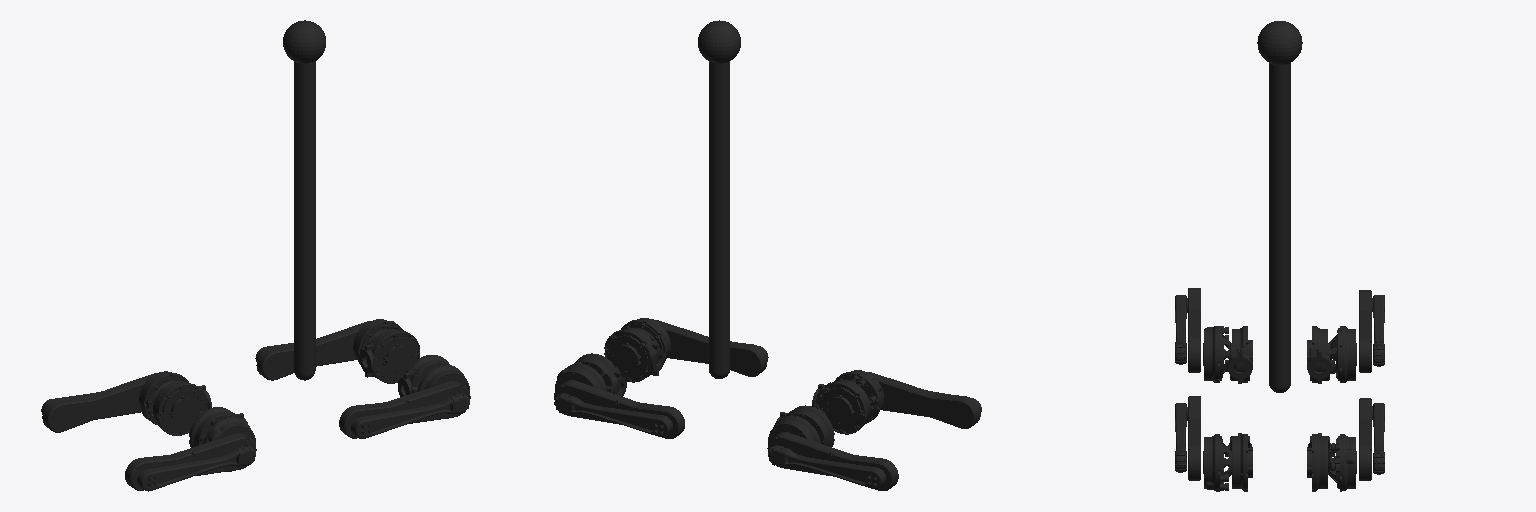
--- Facts derived from the render (not from the file) ---
3 views of the same robot in one strip: view 1: azimuth 30°, elevation 25°; view 2: azimuth 150°, elevation 25°; view 3: azimuth 270°, elevation 25° (orthographic).
Model spirit with 20 links and 19 joints (14 revolute, 5 fixed), rooted at body, posed every joint at zero.
Links seen in each view (by area): view 1: tail_link_1, hip1, hip0, upper1, upper0, upper3, upper2, lower2, lower3, hip2, hip3, tail_mass; view 2: tail_link_1, hip3, hip2, upper3, upper2, upper1, upper0, lower0, lower1, hip0, hip1, tail_mass; view 3: tail_link_1, hip2, hip3, hip0, hip1, tail_mass, upper3, upper2, upper0, upper1, lower0, lower1 (+2 smaller).
Link boxes in pixels (x1,y1,x2,y2): tail_link_1: (294,61,315,373); hip1: (139,371,211,435); hip0: (353,319,419,383); upper1: (42,373,156,432); upper0: (256,321,369,380); upper3: (125,433,256,490); upper2: (339,381,470,438); lower2: (351,393,469,438); lower3: (137,445,255,491); hip2: (398,355,469,418); hip3: (189,407,255,471); tail_mass: (283,20,325,63); tail_link_1: (709,61,729,372); hip3: (812,370,883,434); hip2: (604,318,670,382); upper3: (868,372,980,428); upper2: (652,319,767,376); upper1: (767,432,898,490); upper0: (554,380,684,438); lower0: (554,393,672,436); lower1: (768,445,885,488); hip0: (555,353,626,396); hip1: (768,405,834,446); tail_mass: (698,20,740,63); tail_link_1: (1269,63,1290,386); hip2: (1203,433,1252,491); hip3: (1203,326,1252,383); hip0: (1307,433,1356,491); hip1: (1307,326,1356,383); tail_mass: (1257,21,1302,64); upper3: (1188,288,1200,372); upper2: (1188,396,1200,480); upper0: (1359,398,1371,480); upper1: (1359,290,1371,372); lower0: (1372,403,1384,474); lower1: (1372,295,1384,366).
Bounding box of the posed robot: 0.7392 × 0.3719 × 0.8043 m (x, y, z).
12 mesh visuals loaded from 4 distinct referenced files (3 binary STL); not drawn: 1 (reference not matched to a file when rendering).

URDF robot description (spirit):
<?xml version="1.0" encoding="utf-8"?>
<!-- =================================================================================== -->
<!-- |    This document was autogenerated by xacro from spirit40_gaz.urdf.xacro        | -->
<!-- |    EDITING THIS FILE BY HAND IS NOT RECOMMENDED                                 | -->
<!-- =================================================================================== -->
<!--
 * Copyright (C) Ghost Robotics - All Rights Reserved
 * Unauthorized copying of this file, via any medium is strictly prohibited
 * Proprietary and confidential
 * Written by Avik De <[email redacted]> and Tom Jacobs <[email redacted]>
-->
<robot name="spirit">
  <!-- Define materials -->
  <material name="gray">
    <color rgba="0.2 0.2 0.2 1.0"/>
  </material>
  <material name="darkgray">
    <color rgba="0.1 0.1 0.1 1.0"/>
  </material>
  <material name="silver">
    <color rgba="0.3 0.3 0.3 1.0"/>
  </material>
  <material name="red">
    <color rgba="0.8 0.0 0.2 1.0"/>
  </material>
  <!-- Body -->
  <link name="body">
    <!--		<visual>-->
    <!--			<origin rpy="0 0 0" xyz="0 0 0"/>-->
    <!--			<geometry>-->
    <!--				<box size="${bodyLength} ${bodyWidth} ${bodyHeight}"/>-->
    <!--			</geometry>-->
    <!--			<material name="darkgray"/>-->
    <!--		</visual>-->
    <visual>
      <origin rpy="0 0 0" xyz="0.03 0 0"/>
      <geometry>
        <mesh filename="package://spirit_description/meshes/Spirit40_Body_Mesh_transformed.stl" scale="1 1 1"/>
      </geometry>
      <material name="gray"/>
    </visual>
    <inertial>
      <mass value="5.75"/>
      <!-- Uniform box -->
      <!-- <inertia ixx="1/12*${bodyMass}*(${bodyWidth}*${bodyWidth} + ${bodyHeight}*${bodyHeight})"  ixy="0"  ixz="0" iyy="1/12*${bodyMass}*(${bodyLength}*${bodyLength} + ${bodyHeight}*${bodyHeight})" iyz="0" izz="1/12*${bodyMass}*(${bodyLength}*${bodyLength} + ${bodyWidth}*${bodyWidth})"/> -->
      <inertia ixx="0.05" ixy="0" ixz="0" iyy="0.1" iyz="0" izz="0.1"/>
    </inertial>
    <!-- Just copy geometry for collision -->
    <collision>
      <origin rpy="0 0 0" xyz="0 0 0"/>
      <geometry>
        <box size="0.335 0.24 0.104"/>
      </geometry>
    </collision>
  </link>
  <gazebo reference="body">
    <gravity>true</gravity>
    <sensor name="imu_sensor" type="imu">
      <always_on>true</always_on>
      <visualize>true</visualize>
      <topic>__default_topic_</topic>
      <plugin filename="libgazebo_ros_imu_sensor.so" name="imu_plugin">
        <topicName>imu</topicName>
        <bodyName>body</bodyName>
        <updateRateHZ>500.0</updateRateHZ>
        <gaussianNoise>0.0</gaussianNoise>
        <xyzOffset>0 0 0</xyzOffset>
        <rpyOffset>0 0 0</rpyOffset>
        <frameName>body</frameName>
        <initialOrientationAsReference>true</initialOrientationAsReference>
      </plugin>
      <pose>0 0 0 0 0 0</pose>
    </sensor>
  </gazebo>
  <!-- Hip motor -->
  <link name="hip0">
    <!--			<visual>-->
    <!--				<origin rpy="${pi/2} 0 0" xyz="${front * 0} ${left * (dPodAxisToEdge)} 0"/>-->
    <!--				<geometry>-->
    <!--					<cylinder length="${podLength}" radius="${podRadius}"/>-->
    <!--				</geometry>-->
    <!--				<material name="${color}"/>-->
    <!--			</visual>-->
    <visual>
      <origin rpy="0 0 0" xyz="0 0.0 0"/>
      <geometry>
        <mesh filename="package://spirit_description/meshes/Spirit40_Hip_Module_transformed.stl" scale="1 1 1"/>
      </geometry>
      <material name="gray"/>
    </visual>
    <collision>
      <origin rpy="1.5707963268 0 0" xyz="0 0.028 0"/>
      <geometry>
        <cylinder length="0.08" radius="0.055"/>
      </geometry>
    </collision>
    <inertial>
      <mass value="0.575"/>
      <!-- <inertia ixx="1/12*${podMass}*${podLength}*${podLength} + 1/4*${podMass}*${podRadius}*${podRadius}"  ixy="0"  ixz="0" iyy="1/12*${podMass}*${podLength}*${podLength} + 1/4*${podMass}*${podRadius}*${podRadius}" iyz="0" izz="1/2*${podMass}*${podRadius}*$
				{podRadius}" /> -->
      <inertia ixx="0.00066963541" ixy="0" ixz="0" iyy="0.00066963541" iyz="0" izz="0.0008696875"/>
    </inertial>
  </link>
  <gazebo reference="hip0">
    <material>Gazebo/Gray</material>
  </gazebo>
  <!-- Abduction joint. Joint names are: 8 9 10 11 -->
  <joint name="8" type="revolute">
    <parent link="body"/>
    <child link="hip0"/>
    <axis xyz="1 0 0"/>
    <origin xyz="0.2263 0.07 0"/>
    <limit effort="40" lower="-0.707" upper="0.707" velocity="30"/>
    <dynamics damping="0.0" friction="0.0"/>
  </joint>
  <!-- Transmission elements required for Gazebo -->
  <transmission name="transmission_8">
    <type>transmission_interface/SimpleTransmission</type>
    <joint name="8">
      <hardwareInterface>hardware_interface/EffortJointInterface</hardwareInterface>
    </joint>
    <actuator name="motor_8">
      <hardwareInterface>EffortJointInterface</hardwareInterface>
      <mechanicalReduction>1</mechanicalReduction>
    </actuator>
  </transmission>
  <!-- Upper leg -->
  <link name="upper0">
    <!--			<visual>-->
    <!--				<origin rpy="0 0 0" xyz="-${upperLegLength/2} ${-left*upperLegWidth} 0"/>-->
    <!--				<geometry>-->
    <!--					<box size="${upperLegLength} ${upperLegWidth} ${upperLegHeight}"/>-->
    <!--				</geometry>-->
    <!--				<material name="silver"/>-->
    <!--			</visual>-->
    <visual>
      <origin rpy="0 0  0" xyz="0 -0.02 0"/>
      <geometry>
        <mesh filename="package://spirit_description/meshes/Spirit40_Upper_leg_transformed.stl" scale="1 1 1"/>
      </geometry>
      <material name="gray"/>
    </visual>
    <collision>
      <origin rpy="0 0 0" xyz="-0.103 -0.022 0"/>
      <geometry>
        <box size="0.206 0.022 0.055"/>
      </geometry>
    </collision>
    <inertial>
      <mass value="0.775"/>
      <inertia ixx="5e-05" ixy="0" ixz="0" iyy="0.001" iyz="0" izz="0.001"/>
    </inertial>
  </link>
  <gazebo reference="upper0">
    <material>Gazebo/Gray</material>
  </gazebo>
  <!-- Hip joint. (Motor to upper leg). Joint names are: 0 2 4 6 -->
  <joint name="0" type="revolute">
    <parent link="hip0"/>
    <child link="upper0"/>
    <axis xyz="0 -1 0"/>
    <origin xyz="0 0.10098 0"/>
    <!--  rpy="0 -0.3 0" -->
    <limit effort="40" lower="-6.28318530718" upper="6.28318530718" velocity="30"/>
    <dynamics damping="0.0" friction="0.0"/>
  </joint>
  <!-- Transmission elements required for Gazebo -->
  <transmission name="transmission_0">
    <type>transmission_interface/SimpleTransmission</type>
    <joint name="0">
      <hardwareInterface>hardware_interface/EffortJointInterface</hardwareInterface>
    </joint>
    <actuator name="motor_0">
      <hardwareInterface>EffortJointInterface</hardwareInterface>
      <mechanicalReduction>1</mechanicalReduction>
    </actuator>
  </transmission>
  <!-- Lower leg -->
  <link name="lower0">
    <!--			<visual>-->
    <!--				<origin rpy="0 ${pi/2} 0" xyz="${lowerLegLength/2} 0 0"/>-->
    <!--				<geometry>-->
    <!--					<cylinder length="${lowerLegLength}" radius="${lowerLegRadius}"/>-->
    <!--				</geometry>-->
    <!--				<material name="darkgray"/>-->
    <!--			</visual>-->
    <visual>
      <origin rpy="0 0  0" xyz="0 0 0"/>
      <geometry>
        <mesh filename="package://spirit_description/meshes/Spirit40_Lower_Leg_transformed.stl" scale="1 1 1"/>
      </geometry>
      <material name="gray"/>
    </visual>
    <collision>
      <origin rpy="0 1.5707963268 0" xyz="0.103 0 0"/>
      <geometry>
        <cylinder length="0.206" radius="0.013"/>
      </geometry>
    </collision>
    <inertial>
      <mass value="0.075"/>
      <inertia ixx="5e-06" ixy="0" ixz="0" iyy="0.0001" iyz="0" izz="0.0001"/>
    </inertial>
  </link>
  <gazebo reference="lower0">
    <material>Gazebo/Black</material>
  </gazebo>
  <!-- Knee joint. Joint names are: 1 3 5 7 -->
  <joint name="1" type="revolute">
    <parent link="upper0"/>
    <child link="lower0"/>
    <axis xyz="0 1 0"/>
    <origin xyz="-0.206 0 0"/>
    <!--rpy="0 0.5 0"-->
    <limit effort="40" lower="0" upper="3.14159265359" velocity="30"/>
    <dynamics damping="0.0" friction="0.0"/>
  </joint>
  <!-- Transmission elements required for Gazebo -->
  <transmission name="transmission_1">
    <type>transmission_interface/SimpleTransmission</type>
    <joint name="1">
      <hardwareInterface>hardware_interface/EffortJointInterface</hardwareInterface>
    </joint>
    <actuator name="motor_1">
      <hardwareInterface>EffortJointInterface</hardwareInterface>
      <mechanicalReduction>1</mechanicalReduction>
    </actuator>
  </transmission>
  <!-- Toe -->
  <link name="toe0">
    <contact>
      <friction_anchor/>
      <stiffness value="30000.0"/>
      <damping value="1000.0"/>
      <spinning_friction value="0.3"/>
      <lateral_friction value="50.0"/>
    </contact>
    <visual>
      <origin rpy="0 0 0" xyz="0 0 0"/>
      <geometry>
        <!--					<sphere radius="${toeRadius}"/>-->
        <sphere radius="0.001"/>
      </geometry>
      <material name="darkgray"/>
    </visual>
    <collision>
      <origin rpy="0 0 0" xyz="0 0 0"/>
      <geometry>
        <sphere radius="0.02"/>
      </geometry>
      <surface>
        <friction>
          <ode>
            <mu>100000</mu>
            <mu2>100000</mu2>
          </ode>
        </friction>
        <contact>
          <ode>
            <kp>30000.0</kp>
            <kd>1000.0</kd>
          </ode>
        </contact>
      </surface>
    </collision>
    <inertial>
      <mass value="0.015"/>
      <inertia ixx="0.000025" ixy="0" ixz="0" iyy="0.000025" iyz="0" izz="0.000025"/>
      <!-- <inertia ixx="2/5*${toeMass}*${toeRadius}*${toeRadius}"  ixy="0"  ixz="0" iyy="2/5*${toeMass}*${toeRadius}*${toeRadius}" iyz="0" izz="2/5*${toeMass}*${toeRadius}*${toeRadius}" /> -->
    </inertial>
  </link>
  <gazebo reference="toe0">
    <material>Gazebo/DarkGray</material>
    <collision>
      <surface>
        <bounce>
          <restitution_coefficient>0</restitution_coefficient>
          <threshold>1e+06</threshold>
        </bounce>
        <friction>
          <torsional>
            <coefficient>0.3</coefficient>
          </torsional>
          <ode>
            <mu>100.0</mu>
            <mu2>50.0</mu2>
          </ode>
          <bullet>
            <rolling_friction>0.3</rolling_friction>
            <friction2>50.0</friction2>
          </bullet>
        </friction>
        <contact>
          <bullet>
            <kp>30000.0</kp>
            <kd>1000.0</kd>
          </bullet>
          <ode>
            <kp>30000.0</kp>
            <kd>1000.0</kd>
          </ode>
        </contact>
      </surface>
    </collision>
  </gazebo>
  <joint name="jtoe0" type="fixed">
    <parent link="lower0"/>
    <child link="toe0"/>
    <origin xyz="0.206 0 -0.0"/>
    <dynamics damping="0.0" friction="0.0"/>
  </joint>
  <!-- Hip motor -->
  <link name="hip1">
    <!--			<visual>-->
    <!--				<origin rpy="${pi/2} 0 0" xyz="${front * 0} ${left * (dPodAxisToEdge)} 0"/>-->
    <!--				<geometry>-->
    <!--					<cylinder length="${podLength}" radius="${podRadius}"/>-->
    <!--				</geometry>-->
    <!--				<material name="${color}"/>-->
    <!--			</visual>-->
    <visual>
      <origin rpy="0 3.14159265359 0" xyz="0.0 0.0 0"/>
      <geometry>
        <mesh filename="package://spirit_description/meshes/Spirit40_Hip_Module_transformed.stl" scale="1 1 1"/>
      </geometry>
      <material name="gray"/>
    </visual>
    <collision>
      <origin rpy="1.5707963268 0 0" xyz="0 0.028 0"/>
      <geometry>
        <cylinder length="0.08" radius="0.055"/>
      </geometry>
    </collision>
    <inertial>
      <mass value="0.575"/>
      <!-- <inertia ixx="1/12*${podMass}*${podLength}*${podLength} + 1/4*${podMass}*${podRadius}*${podRadius}"  ixy="0"  ixz="0" iyy="1/12*${podMass}*${podLength}*${podLength} + 1/4*${podMass}*${podRadius}*${podRadius}" iyz="0" izz="1/2*${podMass}*${podRadius}*$
				{podRadius}" /> -->
      <inertia ixx="0.00066963541" ixy="0" ixz="0" iyy="0.00066963541" iyz="0" izz="0.0008696875"/>
    </inertial>
  </link>
  <gazebo reference="hip1">
    <material>Gazebo/Gray</material>
  </gazebo>
  <!-- Abduction joint. Joint names are: 8 9 10 11 -->
  <joint name="9" type="revolute">
    <parent link="body"/>
    <child link="hip1"/>
    <axis xyz="1 0 0"/>
    <origin xyz="-0.2263 0.07 0"/>
    <limit effort="40" lower="-0.707" upper="0.707" velocity="30"/>
    <dynamics damping="0.0" friction="0.0"/>
  </joint>
  <!-- Transmission elements required for Gazebo -->
  <transmission name="transmission_9">
    <type>transmission_interface/SimpleTransmission</type>
    <joint name="9">
      <hardwareInterface>hardware_interface/EffortJointInterface</hardwareInterface>
    </joint>
    <actuator name="motor_9">
      <hardwareInterface>EffortJointInterface</hardwareInterface>
      <mechanicalReduction>1</mechanicalReduction>
    </actuator>
  </transmission>
  <!-- Upper leg -->
  <link name="upper1">
    <!--			<visual>-->
    <!--				<origin rpy="0 0 0" xyz="-${upperLegLength/2} ${-left*upperLegWidth} 0"/>-->
    <!--				<geometry>-->
    <!--					<box size="${upperLegLength} ${upperLegWidth} ${upperLegHeight}"/>-->
    <!--				</geometry>-->
    <!--				<material name="silver"/>-->
    <!--			</visual>-->
    <visual>
      <origin rpy="0 0  0" xyz="0 -0.02 0"/>
      <geometry>
        <mesh filename="package://spirit_description/meshes/Spirit40_Upper_leg_transformed.stl" scale="1 1 1"/>
      </geometry>
      <material name="gray"/>
    </visual>
    <collision>
      <origin rpy="0 0 0" xyz="-0.103 -0.022 0"/>
      <geometry>
        <box size="0.206 0.022 0.055"/>
      </geometry>
    </collision>
    <inertial>
      <mass value="0.775"/>
      <inertia ixx="5e-05" ixy="0" ixz="0" iyy="0.001" iyz="0" izz="0.001"/>
    </inertial>
  </link>
  <gazebo reference="upper1">
    <material>Gazebo/Gray</material>
  </gazebo>
  <!-- Hip joint. (Motor to upper leg). Joint names are: 0 2 4 6 -->
  <joint name="2" type="revolute">
    <parent link="hip1"/>
    <child link="upper1"/>
    <axis xyz="0 -1 0"/>
    <origin xyz="0 0.10098 0"/>
    <!--  rpy="0 -0.3 0" -->
    <limit effort="40" lower="-6.28318530718" upper="6.28318530718" velocity="30"/>
    <dynamics damping="0.0" friction="0.0"/>
  </joint>
  <!-- Transmission elements required for Gazebo -->
  <transmission name="transmission_2">
    <type>transmission_interface/SimpleTransmission</type>
    <joint name="2">
      <hardwareInterface>hardware_interface/EffortJointInterface</hardwareInterface>
    </joint>
    <actuator name="motor_2">
      <hardwareInterface>EffortJointInterface</hardwareInterface>
      <mechanicalReduction>1</mechanicalReduction>
    </actuator>
  </transmission>
  <!-- Lower leg -->
  <link name="lower1">
    <!--			<visual>-->
    <!--				<origin rpy="0 ${pi/2} 0" xyz="${lowerLegLength/2} 0 0"/>-->
    <!--				<geometry>-->
    <!--					<cylinder length="${lowerLegLength}" radius="${lowerLegRadius}"/>-->
    <!--				</geometry>-->
    <!--				<material name="darkgray"/>-->
    <!--			</visual>-->
    <visual>
      <origin rpy="0 0  0" xyz="0 0 0"/>
      <geometry>
        <mesh filename="package://spirit_description/meshes/Spirit40_Lower_Leg_transformed.stl" scale="1 1 1"/>
      </geometry>
      <material name="gray"/>
    </visual>
    <collision>
      <origin rpy="0 1.5707963268 0" xyz="0.103 0 0"/>
      <geometry>
        <cylinder length="0.206" radius="0.013"/>
      </geometry>
    </collision>
    <inertial>
      <mass value="0.075"/>
      <inertia ixx="5e-06" ixy="0" ixz="0" iyy="0.0001" iyz="0" izz="0.0001"/>
    </inertial>
  </link>
  <gazebo reference="lower1">
    <material>Gazebo/Black</material>
  </gazebo>
  <!-- Knee joint. Joint names are: 1 3 5 7 -->
  <joint name="3" type="revolute">
    <parent link="upper1"/>
    <child link="lower1"/>
    <axis xyz="0 1 0"/>
    <origin xyz="-0.206 0 0"/>
    <!--rpy="0 0.5 0"-->
    <limit effort="40" lower="0" upper="3.14159265359" velocity="30"/>
    <dynamics damping="0.0" friction="0.0"/>
  </joint>
  <!-- Transmission elements required for Gazebo -->
  <transmission name="transmission_3">
    <type>transmission_interface/SimpleTransmission</type>
    <joint name="3">
      <hardwareInterface>hardware_interface/EffortJointInterface</hardwareInterface>
    </joint>
    <actuator name="motor_3">
      <hardwareInterface>EffortJointInterface</hardwareInterface>
      <mechanicalReduction>1</mechanicalReduction>
    </actuator>
  </transmission>
  <!-- Toe -->
  <link name="toe1">
    <contact>
      <friction_anchor/>
      <stiffness value="30000.0"/>
      <damping value="1000.0"/>
      <spinning_friction value="0.3"/>
      <lateral_friction value="50.0"/>
    </contact>
    <visual>
      <origin rpy="0 0 0" xyz="0 0 0"/>
      <geometry>
        <!--					<sphere radius="${toeRadius}"/>-->
        <sphere radius="0.001"/>
      </geometry>
      <material name="darkgray"/>
    </visual>
    <collision>
      <origin rpy="0 0 0" xyz="0 0 0"/>
      <geometry>
        <sphere radius="0.02"/>
      </geometry>
      <surface>
        <friction>
          <ode>
            <mu>100000</mu>
            <mu2>100000</mu2>
          </ode>
        </friction>
        <contact>
          <ode>
            <kp>30000.0</kp>
            <kd>1000.0</kd>
          </ode>
        </contact>
      </surface>
    </collision>
    <inertial>
      <mass value="0.015"/>
      <inertia ixx="0.000025" ixy="0" ixz="0" iyy="0.000025" iyz="0" izz="0.000025"/>
      <!-- <inertia ixx="2/5*${toeMass}*${toeRadius}*${toeRadius}"  ixy="0"  ixz="0" iyy="2/5*${toeMass}*${toeRadius}*${toeRadius}" iyz="0" izz="2/5*${toeMass}*${toeRadius}*${toeRadius}" /> -->
    </inertial>
  </link>
  <gazebo reference="toe1">
    <material>Gazebo/DarkGray</material>
    <collision>
      <surface>
        <bounce>
          <restitution_coefficient>0</restitution_coefficient>
          <threshold>1e+06</threshold>
        </bounce>
        <friction>
          <torsional>
            <coefficient>0.3</coefficient>
          </torsional>
          <ode>
            <mu>100.0</mu>
            <mu2>50.0</mu2>
          </ode>
          <bullet>
            <rolling_friction>0.3</rolling_friction>
            <friction2>50.0</friction2>
          </bullet>
        </friction>
        <contact>
          <bullet>
            <kp>30000.0</kp>
            <kd>1000.0</kd>
          </bullet>
          <ode>
            <kp>30000.0</kp>
            <kd>1000.0</kd>
          </ode>
        </contact>
      </surface>
    </collision>
  </gazebo>
  <joint name="jtoe1" type="fixed">
    <parent link="lower1"/>
    <child link="toe1"/>
    <origin xyz="0.206 0 -0.0"/>
    <dynamics damping="0.0" friction="0.0"/>
  </joint>
  <!-- Hip motor -->
  <link name="hip2">
    <!--			<visual>-->
    <!--				<origin rpy="${pi/2} 0 0" xyz="${front * 0} ${left * (dPodAxisToEdge)} 0"/>-->
    <!--				<geometry>-->
    <!--					<cylinder length="${podLength}" radius="${podRadius}"/>-->
    <!--				</geometry>-->
    <!--				<material name="${color}"/>-->
    <!--			</visual>-->
    <visual>
      <origin rpy="3.14159265359 0 0" xyz="0.0 0 0.0"/>
      <geometry>
        <mesh filename="package://spirit_description/meshes/Spirit40_Hip_Module_transformed.stl" scale="1 1 1"/>
      </geometry>
      <material name="gray"/>
    </visual>
    <collision>
      <origin rpy="1.5707963268 0 0" xyz="0 -0.028 0"/>
      <geometry>
        <cylinder length="0.08" radius="0.055"/>
      </geometry>
    </collision>
    <inertial>
      <mass value="0.575"/>
      <!-- <inertia ixx="1/12*${podMass}*${podLength}*${podLength} + 1/4*${podMass}*${podRadius}*${podRadius}"  ixy="0"  ixz="0" iyy="1/12*${podMass}*${podLength}*${podLength} + 1/4*${podMass}*${podRadius}*${podRadius}" iyz="0" izz="1/2*${podMass}*${podRadius}*$
				{podRadius}" /> -->
      <inertia ixx="0.00066963541" ixy="0" ixz="0" iyy="0.00066963541" iyz="0" izz="0.0008696875"/>
    </inertial>
  </link>
  <gazebo reference="hip2">
    <material>Gazebo/Gray</material>
  </gazebo>
  <!-- Abduction joint. Joint names are: 8 9 10 11 -->
  <joint name="10" type="revolute">
    <parent link="body"/>
    <child link="hip2"/>
    <axis xyz="1 0 0"/>
    <origin xyz="0.2263 -0.07 0"/>
    <limit effort="40" lower="-0.707" upper="0.707" velocity="30"/>
    <dynamics damping="0.0" friction="0.0"/>
  </joint>
  <!-- Transmission elements required for Gazebo -->
  <transmission name="transmission_10">
    <type>transmission_interface/SimpleTransmission</type>
    <joint name="10">
      <hardwareInterface>hardware_interface/EffortJointInterface</hardwareInterface>
    </joint>
    <actuator name="motor_10">
      <hardwareInterface>EffortJointInterface</hardwareInterface>
      <mechanicalReduction>1</mechanicalReduction>
    </actuator>
  </transmission>
  <!-- Upper leg -->
  <link name="upper2">
    <!--			<visual>-->
    <!--				<origin rpy="0 0 0" xyz="-${upperLegLength/2} ${-left*upperLegWidth} 0"/>-->
    <!--				<geometry>-->
    <!--					<box size="${upperLegLength} ${upperLegWidth} ${upperLegHeight}"/>-->
    <!--				</geometry>-->
    <!--				<material name="silver"/>-->
    <!--			</visual>-->
    <visual>
      <origin rpy="3.14159265359 0  0" xyz="0 0.02 0"/>
      <geometry>
        <mesh filename="package://spirit_description/meshes/Spirit40_Upper_leg_transformed.stl" scale="1 1 1"/>
      </geometry>
      <material name="gray"/>
    </visual>
    <collision>
      <origin rpy="0 0 0" xyz="-0.103 0.022 0"/>
      <geometry>
        <box size="0.206 0.022 0.055"/>
      </geometry>
    </collision>
    <inertial>
      <mass value="0.775"/>
      <inertia ixx="5e-05" ixy="0" ixz="0" iyy="0.001" iyz="0" izz="0.001"/>
    </inertial>
  </link>
  <gazebo reference="upper2">
    <material>Gazebo/Gray</material>
  </gazebo>
  <!-- Hip joint. (Motor to upper leg). Joint names are: 0 2 4 6 -->
  <joint name="4" type="revolute">
    <parent link="hip2"/>
    <child link="upper2"/>
    <axis xyz="0 -1 0"/>
    <origin xyz="0 -0.10098 0"/>
    <!--  rpy="0 -0.3 0" -->
    <limit effort="40" lower="-6.28318530718" upper="6.28318530718" velocity="30"/>
    <dynamics damping="0.0" friction="0.0"/>
  </joint>
  <!-- Transmission elements required for Gazebo -->
  <transmission name="transmission_4">
    <type>transmission_interface/SimpleTransmission</type>
    <joint name="4">
      <hardwareInterface>hardware_interface/EffortJointInterface</hardwareInterface>
    </joint>
    <actuator name="motor_4">
      <hardwareInterface>EffortJointInterface</hardwareInterface>
      <mechanicalReduction>1</mechanicalReduction>
    </actuator>
  </transmission>
  <!-- Lower leg -->
  <link name="lower2">
    <!--			<visual>-->
    <!--				<origin rpy="0 ${pi/2} 0" xyz="${lowerLegLength/2} 0 0"/>-->
    <!--				<geometry>-->
    <!--					<cylinder length="${lowerLegLength}" radius="${lowerLegRadius}"/>-->
    <!--				</geometry>-->
    <!--				<material name="darkgray"/>-->
    <!--			</visual>-->
    <visual>
      <origin rpy="3.14159265359 0  0" xyz="0 0 0"/>
      <geometry>
        <mesh filename="package://spirit_description/meshes/Spirit40_Lower_Leg_transformed.stl" scale="1 1 1"/>
      </geometry>
      <material name="gray"/>
    </visual>
    <collision>
      <origin rpy="0 1.5707963268 0" xyz="0.103 0 0"/>
      <geometry>
        <cylinder length="0.206" radius="0.013"/>
      </geometry>
    </collision>
    <inertial>
      <mass value="0.075"/>
      <inertia ixx="5e-06" ixy="0" ixz="0" iyy="0.0001" iyz="0" izz="0.0001"/>
    </inertial>
  </link>
  <gazebo reference="lower2">
    <material>Gazebo/Black</material>
  </gazebo>
  <!-- Knee joint. Joint names are: 1 3 5 7 -->
  <joint name="5" type="revolute">
    <parent link="upper2"/>
    <child link="lower2"/>
    <axis xyz="0 1 0"/>
    <origin xyz="-0.206 0 0"/>
    <!--rpy="0 0.5 0"-->
    <limit effort="40" lower="0" upper="3.14159265359" velocity="30"/>
    <dynamics damping="0.0" friction="0.0"/>
  </joint>
  <!-- Transmission elements required for Gazebo -->
  <transmission name="transmission_5">
    <type>transmission_interface/SimpleTransmission</type>
    <joint name="5">
      <hardwareInterface>hardware_interface/EffortJointInterface</hardwareInterface>
    </joint>
    <actuator name="motor_5">
      <hardwareInterface>EffortJointInterface</hardwareInterface>
      <mechanicalReduction>1</mechanicalReduction>
    </actuator>
  </transmission>
  <!-- Toe -->
  <link name="toe2">
    <contact>
      <friction_anchor/>
      <stiffness value="30000.0"/>
      <damping value="1000.0"/>
      <spinning_friction value="0.3"/>
      <lateral_friction value="50.0"/>
    </contact>
    <visual>
      <origin rpy="0 0 0" xyz="0 0 0"/>
      <geometry>
        <!--					<sphere radius="${toeRadius}"/>-->
        <sphere radius="0.001"/>
      </geometry>
      <material name="darkgray"/>
    </visual>
    <collision>
      <origin rpy="0 0 0" xyz="0 0 0"/>
      <geometry>
        <sphere radius="0.02"/>
      </geometry>
      <surface>
        <friction>
          <ode>
            <mu>100000</mu>
            <mu2>100000</mu2>
          </ode>
        </friction>
        <contact>
          <ode>
            <kp>30000.0</kp>
            <kd>1000.0</kd>
          </ode>
        </contact>
      </surface>
    </collision>
    <inertial>
      <mass value="0.015"/>
      <inertia ixx="0.000025" ixy="0" ixz="0" iyy="0.000025" iyz="0" izz="0.000025"/>
      <!-- <inertia ixx="2/5*${toeMass}*${toeRadius}*${toeRadius}"  ixy="0"  ixz="0" iyy="2/5*${toeMass}*${toeRadius}*${toeRadius}" iyz="0" izz="2/5*${toeMass}*${toeRadius}*${toeRadius}" /> -->
    </inertial>
  </link>
  <gazebo reference="toe2">
    <material>Gazebo/DarkGray</material>
    <collision>
      <surface>
        <bounce>
          <restitution_coefficient>0</restitution_coefficient>
          <threshold>1e+06</threshold>
        </bounce>
        <friction>
          <torsional>
            <coefficient>0.3</coefficient>
          </torsional>
          <ode>
            <mu>100.0</mu>
            <mu2>50.0</mu2>
          </ode>
          <bullet>
            <rolling_friction>0.3</rolling_friction>
            <friction2>50.0</friction2>
          </bullet>
        </friction>
        <contact>
          <bullet>
            <kp>30000.0</kp>
            <kd>1000.0</kd>
          </bullet>
          <ode>
            <kp>30000.0</kp>
            <kd>1000.0</kd>
          </ode>
        </contact>
      </surface>
    </collision>
  </gazebo>
  <joint name="jtoe2" type="fixed">
    <parent link="lower2"/>
    <child link="toe2"/>
    <origin xyz="0.206 0 -0.0"/>
    <dynamics damping="0.0" friction="0.0"/>
  </joint>
  <!-- Hip motor -->
  <link name="hip3">
    <!--			<visual>-->
    <!--				<origin rpy="${pi/2} 0 0" xyz="${front * 0} ${left * (dPodAxisToEdge)} 0"/>-->
    <!--				<geometry>-->
    <!--					<cylinder length="${podLength}" radius="${podRadius}"/>-->
    <!--				</geometry>-->
    <!--				<material name="${color}"/>-->
    <!--			</visual>-->
    <visual>
      <origin rpy="3.14159265359 3.14159265359 0" xyz="0.0 0.0 0.0"/>
      <geometry>
        <mesh filename="package://spirit_description/meshes/Spirit40_Hip_Module_transformed.stl" scale="1 1 1"/>
      </geometry>
      <material name="gray"/>
    </visual>
    <collision>
      <origin rpy="1.5707963268 0 0" xyz="0 -0.028 0"/>
      <geometry>
        <cylinder length="0.08" radius="0.055"/>
      </geometry>
    </collision>
    <inertial>
      <mass value="0.575"/>
      <!-- <inertia ixx="1/12*${podMass}*${podLength}*${podLength} + 1/4*${podMass}*${podRadius}*${podRadius}"  ixy="0"  ixz="0" iyy="1/12*${podMass}*${podLength}*${podLength} + 1/4*${podMass}*${podRadius}*${podRadius}" iyz="0" izz="1/2*${podMass}*${podRadius}*$
				{podRadius}" /> -->
      <inertia ixx="0.00066963541" ixy="0" ixz="0" iyy="0.00066963541" iyz="0" izz="0.0008696875"/>
    </inertial>
  </link>
  <gazebo reference="hip3">
    <material>Gazebo/Gray</material>
  </gazebo>
  <!-- Abduction joint. Joint names are: 8 9 10 11 -->
  <joint name="11" type="revolute">
    <parent link="body"/>
    <child link="hip3"/>
    <axis xyz="1 0 0"/>
    <origin xyz="-0.2263 -0.07 0"/>
    <limit effort="40" lower="-0.707" upper="0.707" velocity="30"/>
    <dynamics damping="0.0" friction="0.0"/>
  </joint>
  <!-- Transmission elements required for Gazebo -->
  <transmission name="transmission_11">
    <type>transmission_interface/SimpleTransmission</type>
    <joint name="11">
      <hardwareInterface>hardware_interface/EffortJointInterface</hardwareInterface>
    </joint>
    <actuator name="motor_11">
      <hardwareInterface>EffortJointInterface</hardwareInterface>
      <mechanicalReduction>1</mechanicalReduction>
    </actuator>
  </transmission>
  <!-- Upper leg -->
  <link name="upper3">
    <!--			<visual>-->
    <!--				<origin rpy="0 0 0" xyz="-${upperLegLength/2} ${-left*upperLegWidth} 0"/>-->
    <!--				<geometry>-->
    <!--					<box size="${upperLegLength} ${upperLegWidth} ${upperLegHeight}"/>-->
    <!--				</geometry>-->
    <!--				<material name="silver"/>-->
    <!--			</visual>-->
    <visual>
      <origin rpy="3.14159265359 0  0" xyz="0 0.02 0"/>
      <geometry>
        <mesh filename="package://spirit_description/meshes/Spirit40_Upper_leg_transformed.stl" scale="1 1 1"/>
      </geometry>
      <material name="gray"/>
    </visual>
    <collision>
      <origin rpy="0 0 0" xyz="-0.103 0.022 0"/>
      <geometry>
        <box size="0.206 0.022 0.055"/>
      </geometry>
    </collision>
    <inertial>
      <mass value="0.775"/>
      <inertia ixx="5e-05" ixy="0" ixz="0" iyy="0.001" iyz="0" izz="0.001"/>
    </inertial>
  </link>
  <gazebo reference="upper3">
    <material>Gazebo/Gray</material>
  </gazebo>
  <!-- Hip joint. (Motor to upper leg). Joint names are: 0 2 4 6 -->
  <joint name="6" type="revolute">
    <parent link="hip3"/>
    <child link="upper3"/>
    <axis xyz="0 -1 0"/>
    <origin xyz="0 -0.10098 0"/>
    <!--  rpy="0 -0.3 0" -->
    <limit effort="40" lower="-6.28318530718" upper="6.28318530718" velocity="30"/>
    <dynamics damping="0.0" friction="0.0"/>
  </joint>
  <!-- Transmission elements required for Gazebo -->
  <transmission name="transmission_6">
    <type>transmission_interface/SimpleTransmission</type>
    <joint name="6">
      <hardwareInterface>hardware_interface/EffortJointInterface</hardwareInterface>
    </joint>
    <actuator name="motor_6">
      <hardwareInterface>EffortJointInterface</hardwareInterface>
      <mechanicalReduction>1</mechanicalReduction>
    </actuator>
  </transmission>
  <!-- Lower leg -->
  <link name="lower3">
    <!--			<visual>-->
    <!--				<origin rpy="0 ${pi/2} 0" xyz="${lowerLegLength/2} 0 0"/>-->
    <!--				<geometry>-->
    <!--					<cylinder length="${lowerLegLength}" radius="${lowerLegRadius}"/>-->
    <!--				</geometry>-->
    <!--				<material name="darkgray"/>-->
    <!--			</visual>-->
    <visual>
      <origin rpy="3.14159265359 0  0" xyz="0 0 0"/>
      <geometry>
        <mesh filename="package://spirit_description/meshes/Spirit40_Lower_Leg_transformed.stl" scale="1 1 1"/>
      </geometry>
      <material name="gray"/>
    </visual>
    <collision>
      <origin rpy="0 1.5707963268 0" xyz="0.103 0 0"/>
      <geometry>
        <cylinder length="0.206" radius="0.013"/>
      </geometry>
    </collision>
    <inertial>
      <mass value="0.075"/>
      <inertia ixx="5e-06" ixy="0" ixz="0" iyy="0.0001" iyz="0" izz="0.0001"/>
    </inertial>
  </link>
  <gazebo reference="lower3">
    <material>Gazebo/Black</material>
  </gazebo>
  <!-- Knee joint. Joint names are: 1 3 5 7 -->
  <joint name="7" type="revolute">
    <parent link="upper3"/>
    <child link="lower3"/>
    <axis xyz="0 1 0"/>
    <origin xyz="-0.206 0 0"/>
    <!--rpy="0 0.5 0"-->
    <limit effort="40" lower="0" upper="3.14159265359" velocity="30"/>
    <dynamics damping="0.0" friction="0.0"/>
  </joint>
  <!-- Transmission elements required for Gazebo -->
  <transmission name="transmission_7">
    <type>transmission_interface/SimpleTransmission</type>
    <joint name="7">
      <hardwareInterface>hardware_interface/EffortJointInterface</hardwareInterface>
    </joint>
    <actuator name="motor_7">
      <hardwareInterface>EffortJointInterface</hardwareInterface>
      <mechanicalReduction>1</mechanicalReduction>
    </actuator>
  </transmission>
  <!-- Toe -->
  <link name="toe3">
    <contact>
      <friction_anchor/>
      <stiffness value="30000.0"/>
      <damping value="1000.0"/>
      <spinning_friction value="0.3"/>
      <lateral_friction value="50.0"/>
    </contact>
    <visual>
      <origin rpy="0 0 0" xyz="0 0 0"/>
      <geometry>
        <!--					<sphere radius="${toeRadius}"/>-->
        <sphere radius="0.001"/>
      </geometry>
      <material name="darkgray"/>
    </visual>
    <collision>
      <origin rpy="0 0 0" xyz="0 0 0"/>
      <geometry>
        <sphere radius="0.02"/>
      </geometry>
      <surface>
        <friction>
          <ode>
            <mu>100000</mu>
            <mu2>100000</mu2>
          </ode>
        </friction>
        <contact>
          <ode>
            <kp>30000.0</kp>
            <kd>1000.0</kd>
          </ode>
        </contact>
      </surface>
    </collision>
    <inertial>
      <mass value="0.015"/>
      <inertia ixx="0.000025" ixy="0" ixz="0" iyy="0.000025" iyz="0" izz="0.000025"/>
      <!-- <inertia ixx="2/5*${toeMass}*${toeRadius}*${toeRadius}"  ixy="0"  ixz="0" iyy="2/5*${toeMass}*${toeRadius}*${toeRadius}" iyz="0" izz="2/5*${toeMass}*${toeRadius}*${toeRadius}" /> -->
    </inertial>
  </link>
  <gazebo reference="toe3">
    <material>Gazebo/DarkGray</material>
    <collision>
      <surface>
        <bounce>
          <restitution_coefficient>0</restitution_coefficient>
          <threshold>1e+06</threshold>
        </bounce>
        <friction>
          <torsional>
            <coefficient>0.3</coefficient>
          </torsional>
          <ode>
            <mu>100.0</mu>
            <mu2>50.0</mu2>
          </ode>
          <bullet>
            <rolling_friction>0.3</rolling_friction>
            <friction2>50.0</friction2>
          </bullet>
        </friction>
        <contact>
          <bullet>
            <kp>30000.0</kp>
            <kd>1000.0</kd>
          </bullet>
          <ode>
            <kp>30000.0</kp>
            <kd>1000.0</kd>
          </ode>
        </contact>
      </surface>
    </collision>
  </gazebo>
  <joint name="jtoe3" type="fixed">
    <parent link="lower3"/>
    <child link="toe3"/>
    <origin xyz="0.206 0 -0.0"/>
    <dynamics damping="0.0" friction="0.0"/>
  </joint>

  <!-- Tail link -->
  <link name="tail_link_0">
    <visual>
      <origin rpy="0 0 0" xyz="0 0 0"/>
      <geometry>
        <sphere radius="0.02"/>
      </geometry>
      <material name="gray"/>
    </visual>
    <inertial>
      <mass value="1e-03"/>
      <inertia ixx="1e-04" ixy="0" ixz="0" iyy="1e-04" iyz="0" izz="1e-04"/>
    </inertial>
  </link>
  <gazebo reference="tail_link_0">
    <material>Gazebo/Gray</material>
  </gazebo>
  <link name="tail_link_1">
    <visual>
      <origin rpy="0 0 0" xyz="0 0 0.33065"/>
      <geometry>
        <cylinder length="0.6613" radius="0.02"/>
      </geometry>
      <material name="gray"/>
    </visual>
    <inertial>
      <mass value="1e-03"/>
      <inertia ixx="1e-04" ixy="0" ixz="0" iyy="1e-04" iyz="0" izz="1e-04"/>
    </inertial>
  </link>
  <gazebo reference="tail_link_1">
    <material>Gazebo/Gray</material>
  </gazebo>
  <link name="tail_mass">
    <visual>
      <origin rpy="0 0 0" xyz="0 0 0"/>
      <geometry>
        <sphere radius="0.04"/>
      </geometry>
      <material name="gray"/>
    </visual>
    <inertial>
      <mass value="0.2764"/>
      <inertia ixx="2.764e-04" ixy="0" ixz="0" iyy="2.764e-04" iyz="0" izz="2.764e-04"/>
    </inertial>
  </link>
  <gazebo reference="tail_mass">
    <material>Gazebo/Gray</material>
  </gazebo>

  <!-- Tail joint -->
  <joint name="body_tail_joint_0" type="revolute">
    <parent link="body"/>
    <child link="tail_link_0"/>
    <axis xyz="1 0 0"/>
    <origin xyz="0 0 0.052"/>
    <limit effort="10" lower="-1.57" upper="1.57" velocity="30"/>
    <dynamics damping="0.0" friction="0.0"/>
  </joint>
  <!-- Transmission elements required for Gazebo -->
  <transmission name="transmission_body_tail_joint_0">
    <type>transmission_interface/SimpleTransmission</type>
    <joint name="body_tail_joint_0">
      <hardwareInterface>hardware_interface/EffortJointInterface</hardwareInterface>
    </joint>
    <actuator name="motor_body_tail_joint_0">
      <hardwareInterface>EffortJointInterface</hardwareInterface>
      <mechanicalReduction>1</mechanicalReduction>
    </actuator>
  </transmission>
  <joint name="body_tail_joint_1" type="revolute">
    <parent link="tail_link_0"/>
    <child link="tail_link_1"/>
    <axis xyz="0 1 0"/>
    <origin xyz="0 0 0"/>
    <limit effort="10" lower="-1.57" upper="1.57" velocity="30"/>
    <dynamics damping="0.0" friction="0.0"/>
  </joint>
  <!-- Transmission elements required for Gazebo -->
  <transmission name="transmission_body_tail_joint_1">
    <type>transmission_interface/SimpleTransmission</type>
    <joint name="body_tail_joint_1">
      <hardwareInterface>hardware_interface/EffortJointInterface</hardwareInterface>
    </joint>
    <actuator name="motor_body_tail_joint_1">
      <hardwareInterface>EffortJointInterface</hardwareInterface>
      <mechanicalReduction>1</mechanicalReduction>
    </actuator>
  </transmission>
  <joint name="tail_link_mass_joint" type="fixed">
    <parent link="tail_link_1"/>
    <child link="tail_mass"/>
    <origin xyz="0 0 0.6613"/>
    <dynamics damping="0.0" friction="0.0"/>
  </joint>
</robot>
